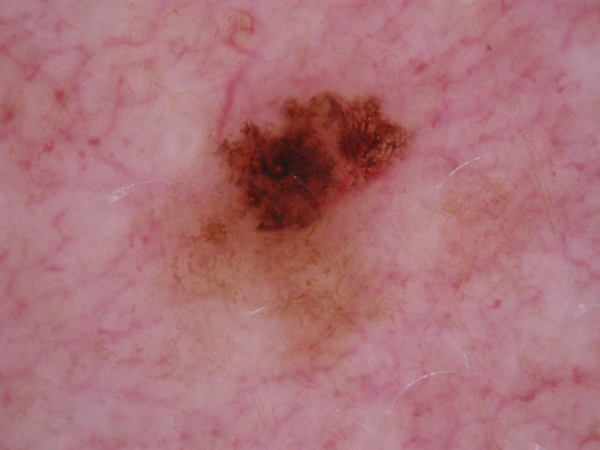Detected Lesion: (195, 81, 425, 235)
